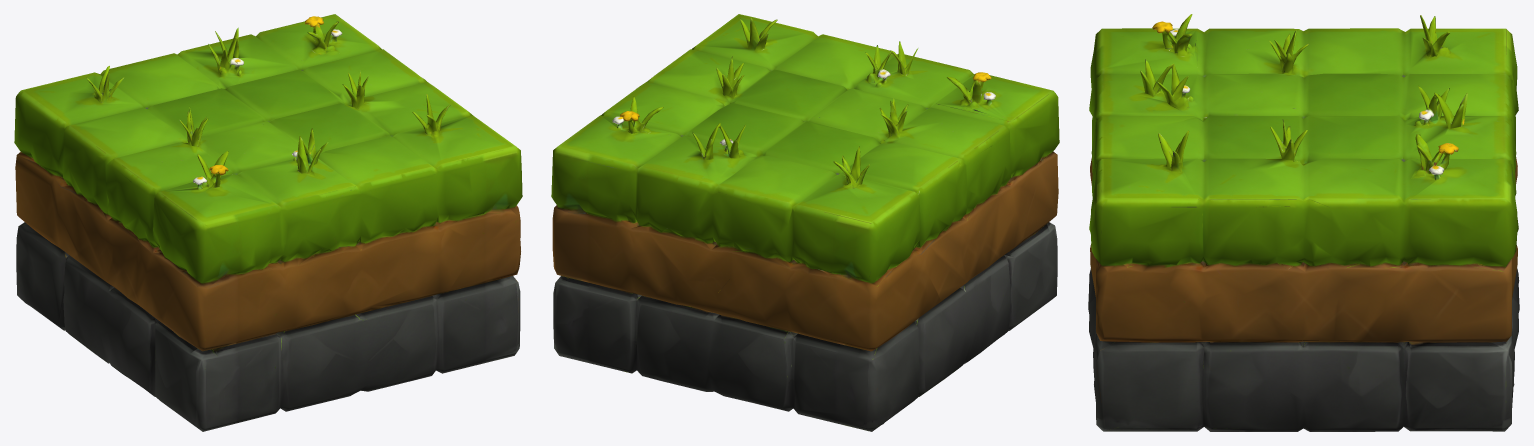
File: Meshy_AI_Ruinforged_0518053236_texture.fbx
The picture shows the model from 3 angles, left to right: view 1: azimuth 30°, elevation 25°; view 2: azimuth 150°, elevation 25°; view 3: azimuth 270°, elevation 25°; orthographic projection. The views are drawn at different scales.
Parts seen in each view (by area): view 1: Mesh1.0; view 2: Mesh1.0; view 3: Mesh1.0.
Boxes of the visible parts, box(x1,y1,x2,y2) form: Mesh1.0: box(14, 14, 522, 431); Mesh1.0: box(551, 14, 1059, 431); Mesh1.0: box(1088, 14, 1519, 431).
Size of the model in its own units: 141 by 100 by 141.
1 material, 1 textured.
